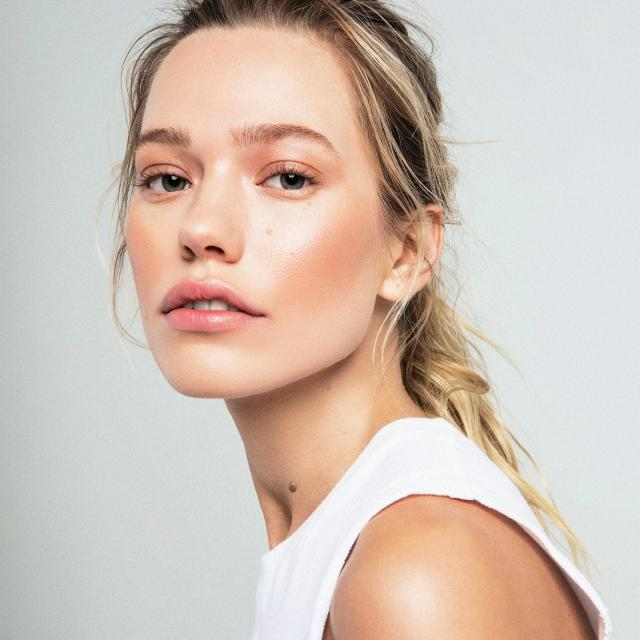earlobe: (387, 204, 447, 304)
